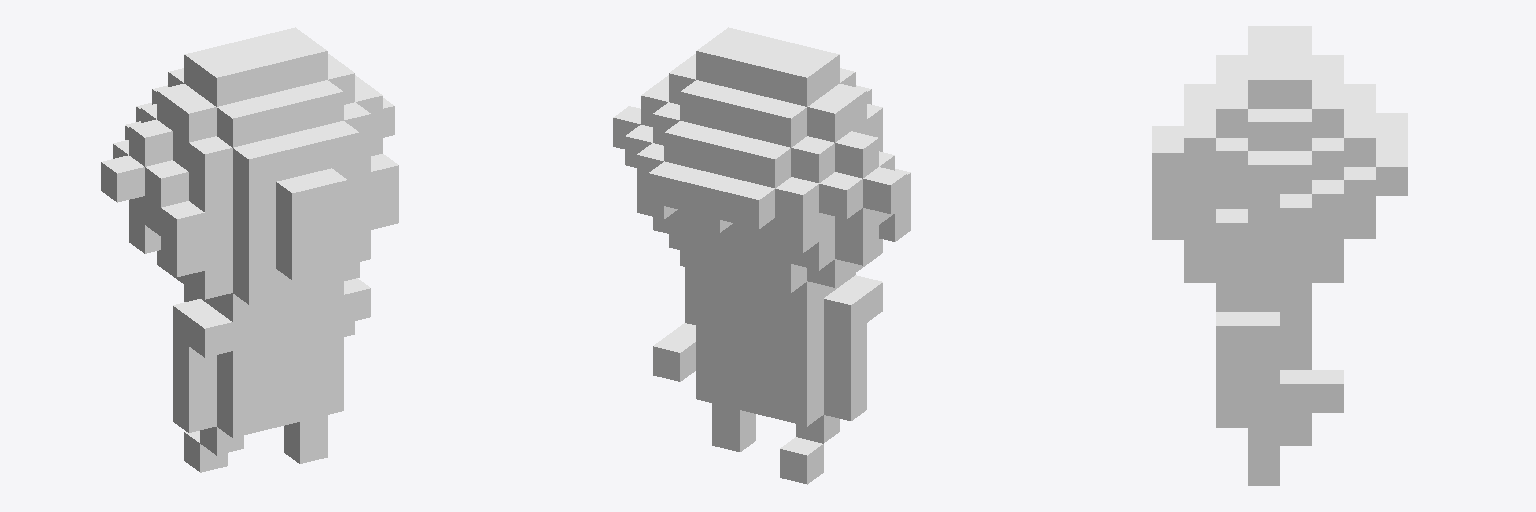
The model's file is BackWalk1.obj.
The picture shows the model from 3 angles: view 1: azimuth 30°, elevation 25°; view 2: azimuth 150°, elevation 25°; view 3: azimuth 270°, elevation 25°; orthographic projection.
Parts seen in each view (by area): view 1: BackWalk1; view 2: BackWalk1; view 3: BackWalk1.
Part boxes in pixels (x1,y1,x2,y2): BackWalk1: (101, 27, 398, 472); BackWalk1: (613, 27, 910, 484); BackWalk1: (1152, 26, 1407, 485).
Size of the model in its own units: 10 by 14 by 8.